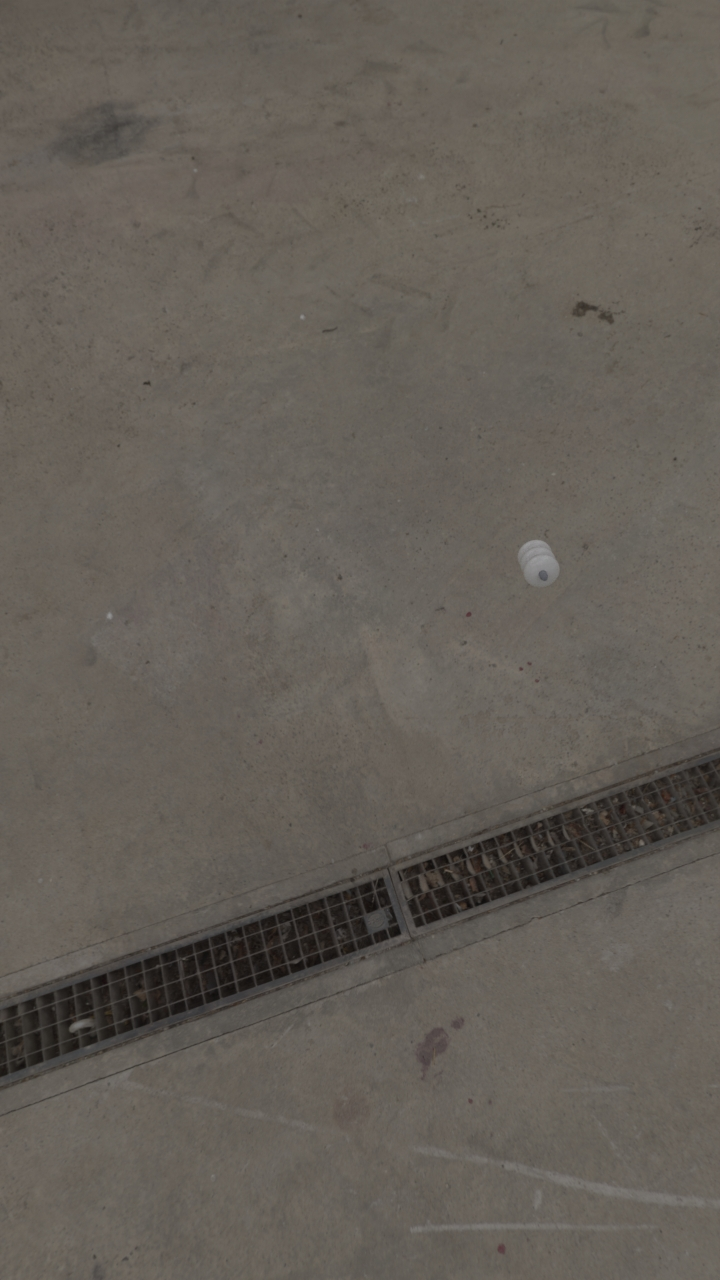ceramicinsulators: (518, 539, 560, 588)
